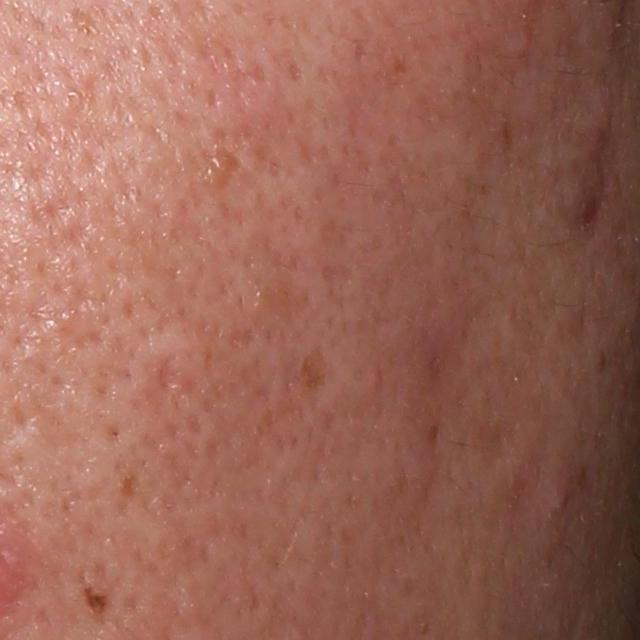atrophic_scar: (158, 348, 185, 394)
